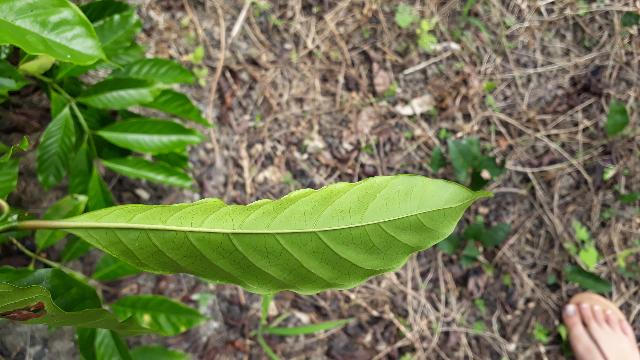healthy: (41, 167, 504, 298)
